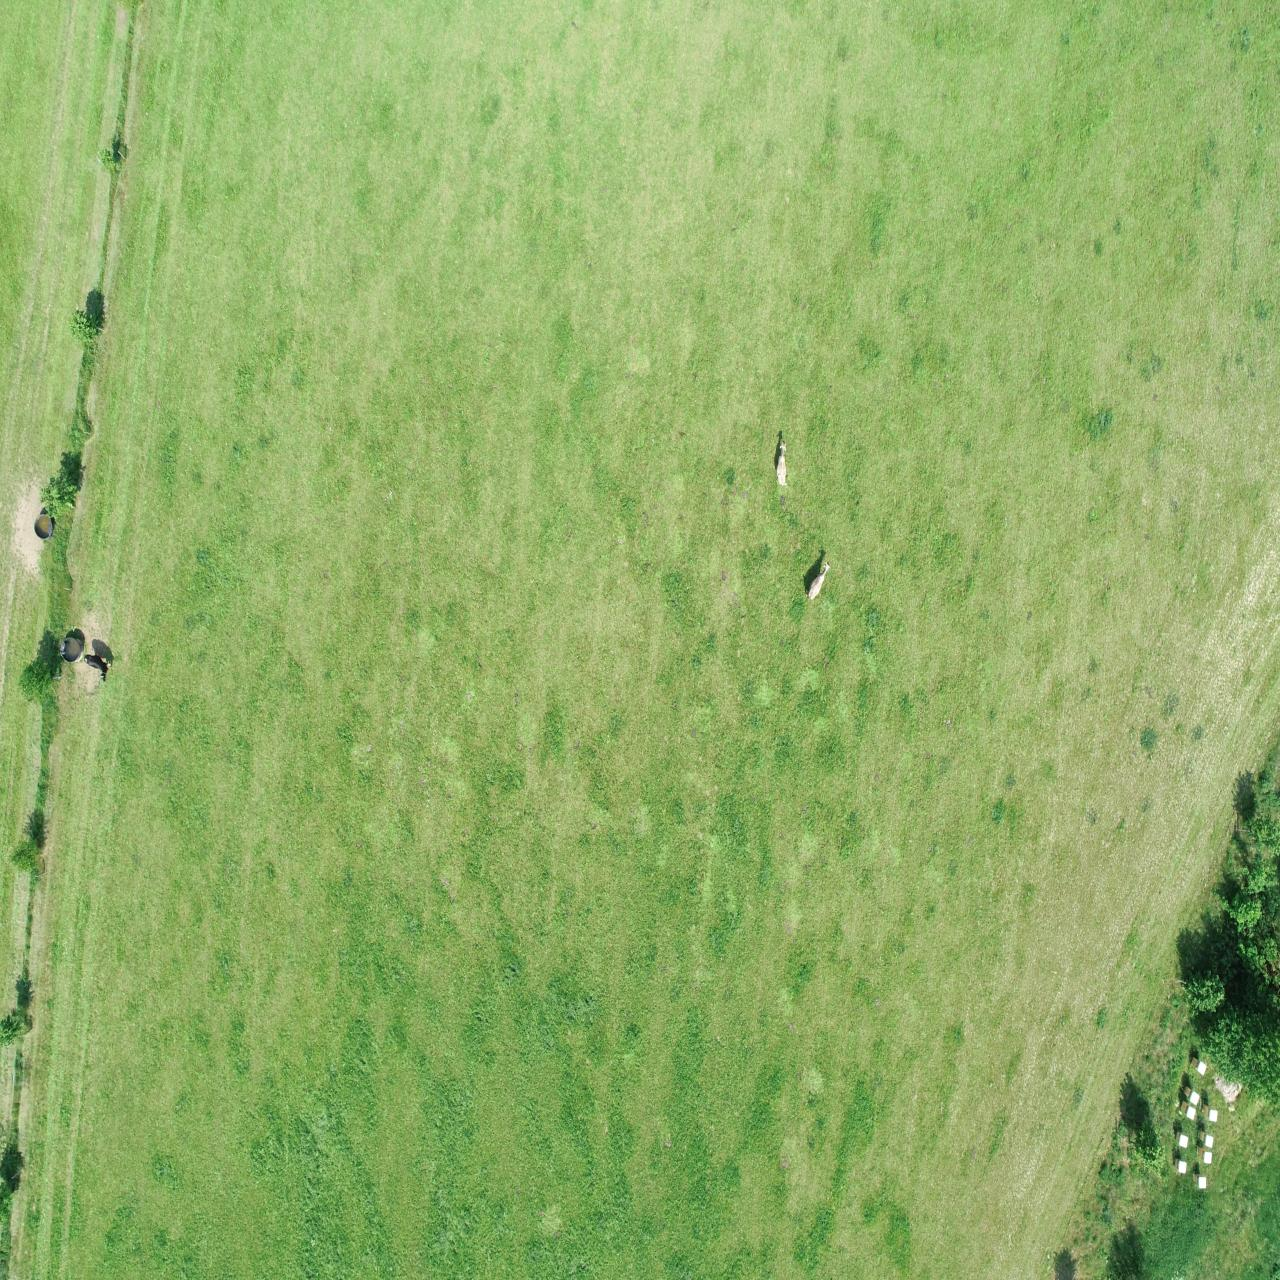cow: (803, 558, 835, 605), (768, 438, 796, 489), (83, 651, 115, 687)
